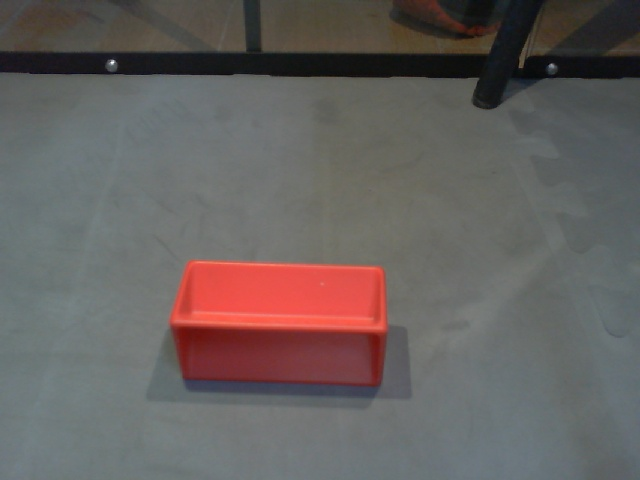RedSample: (170, 257, 389, 391)
